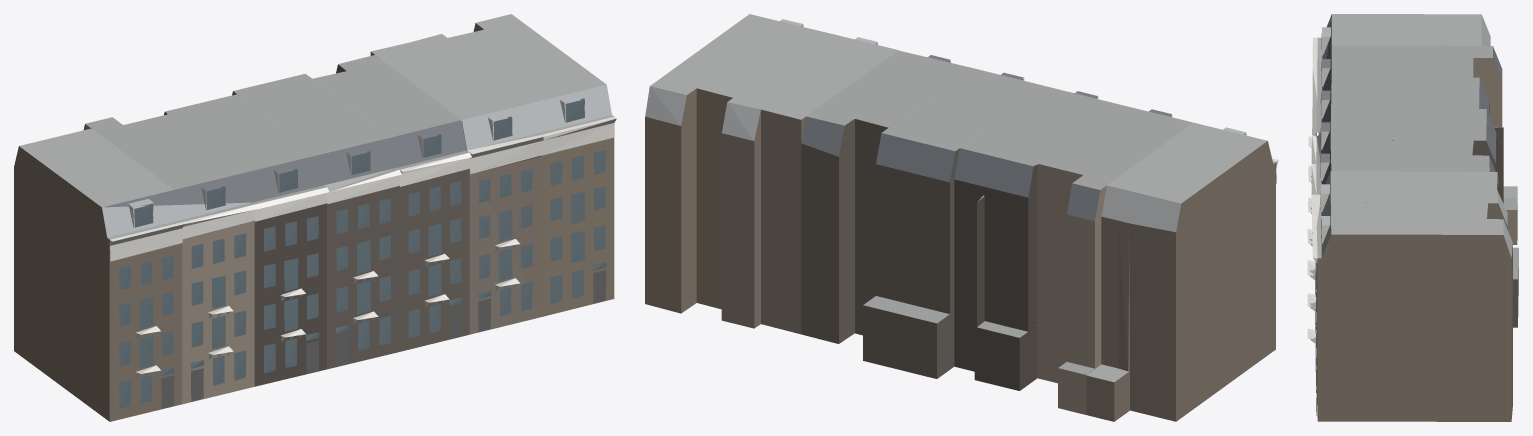
The model's file is chunk-face-witsen-1-19-r1.lod2.glb.
The picture shows the model from 3 angles, left to right: view 1: azimuth 30°, elevation 25°; view 2: azimuth 150°, elevation 25°; view 3: azimuth 270°, elevation 25°; orthographic projection. The views are drawn at different scales.
Parts seen in each view (by area): view 1: lod2; view 2: lod2; view 3: lod2.
Boxes of the visible parts, bbox=[...] form: lod2: bbox=[14, 14, 616, 421]; lod2: bbox=[645, 14, 1278, 421]; lod2: bbox=[1307, 14, 1518, 421].
Size of the model in its own units: 44.07 by 17.39 by 17.78.
